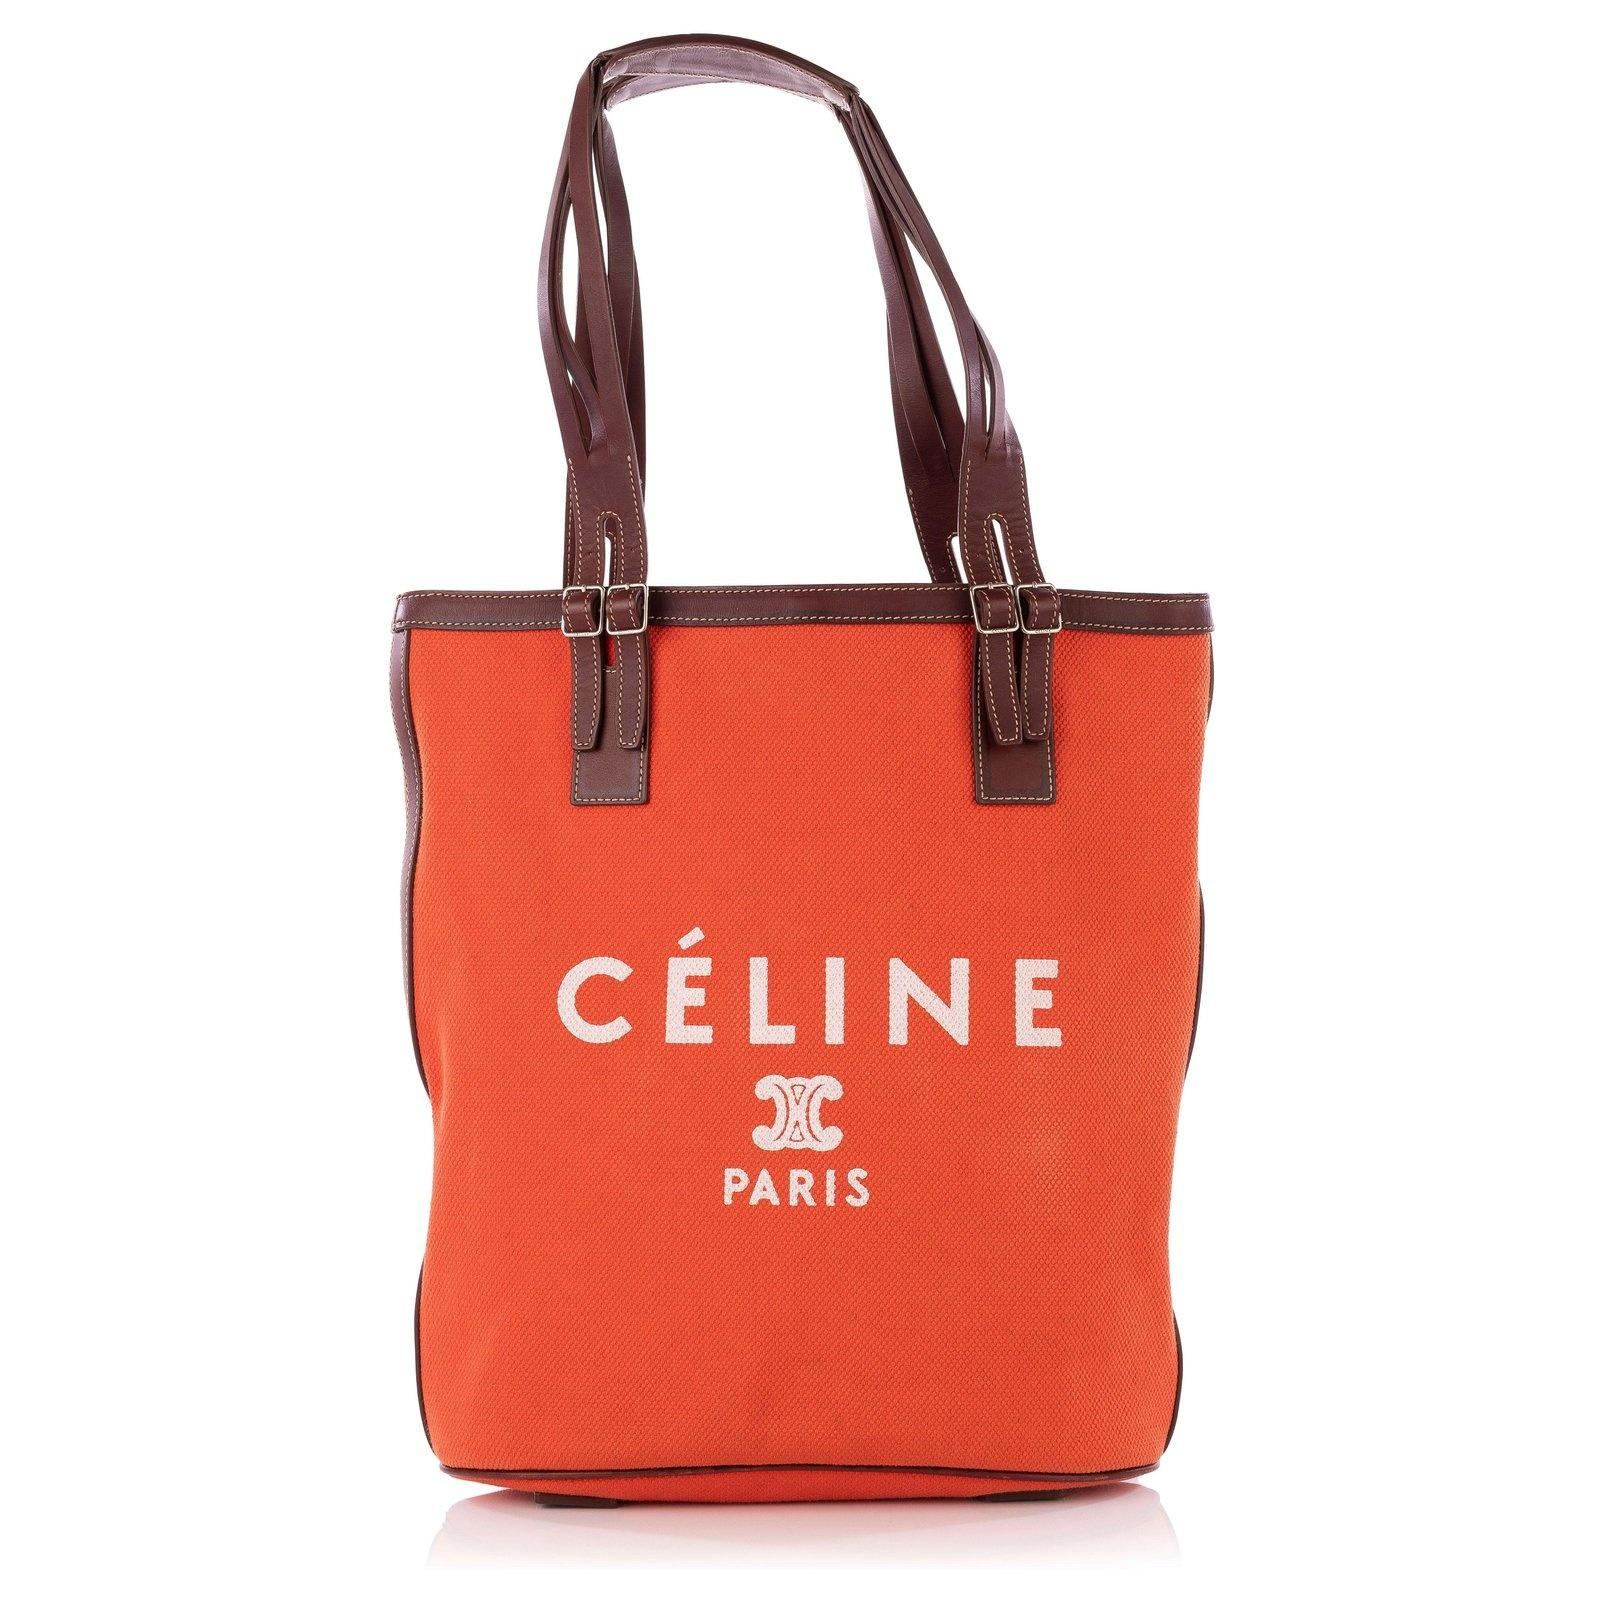CELINE: (554, 920, 1061, 1051)
